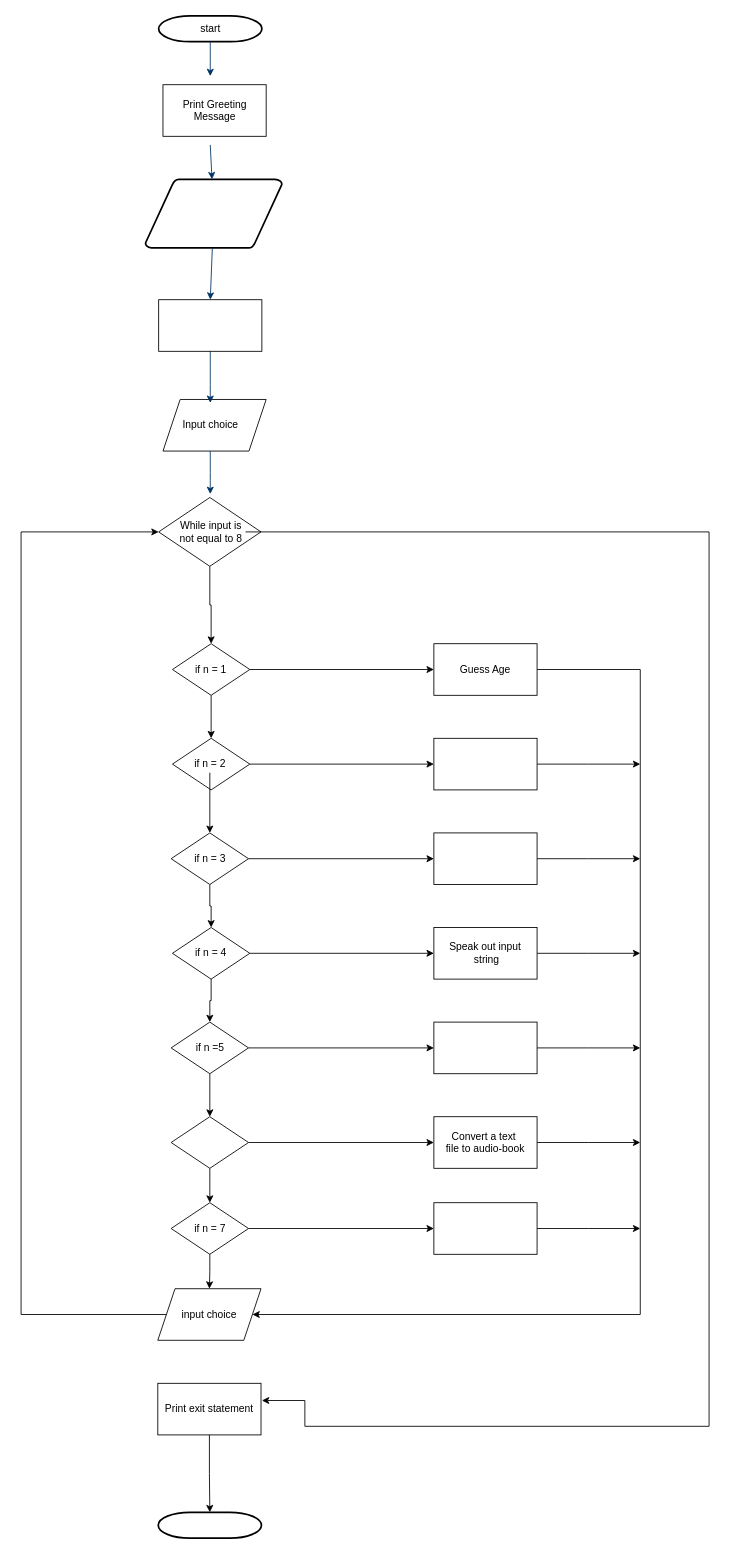
Image size: 731x1553. Some labels were removed from this diagram. Here are the shapes that lost their labels. From the top down, the centre of each, then its label:
At point 213,213: "Take name as input".
At point 210,325: "Print Menu".
At point 485,763: "Take a Test".
At point 485,858: "Check eligibility for Admission".
At point 485,1047: "A visit to Virtual Zoo".
At point 209,1142: "if n = 6".
At point 485,1228: "Search anything on Internet".
At point 209,1525: "end program".
